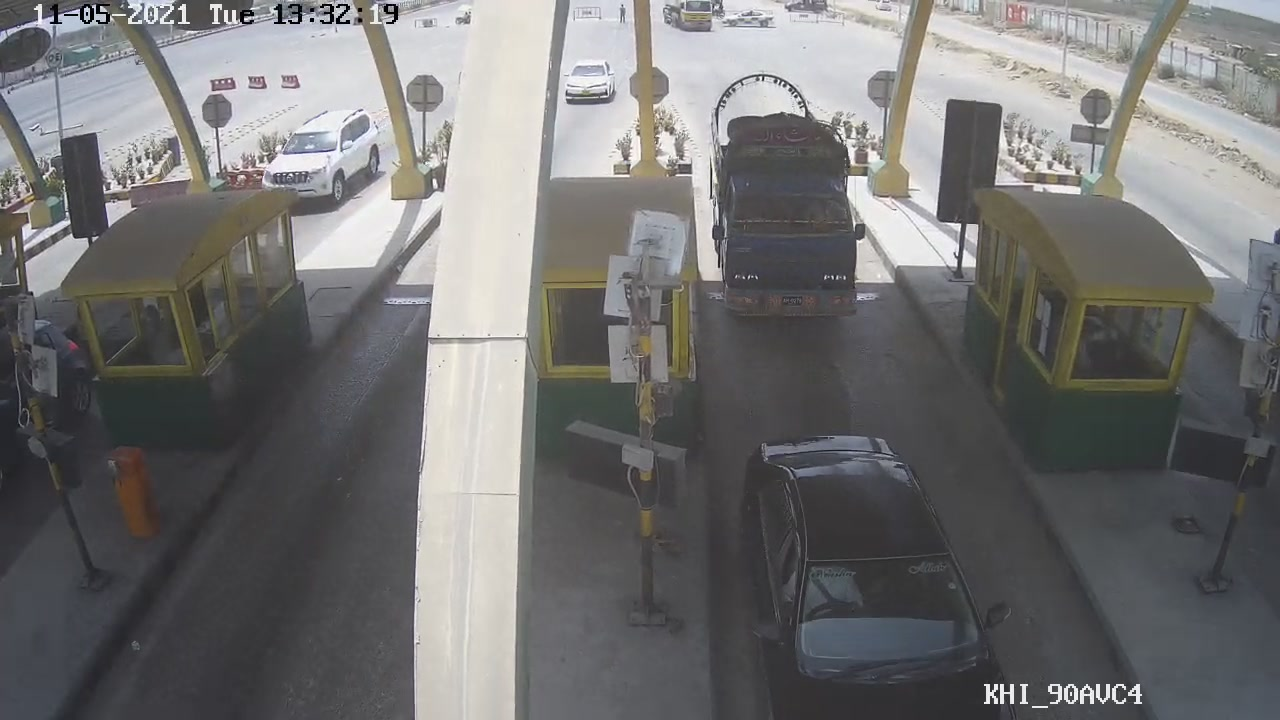F5: (702, 74, 893, 336)
